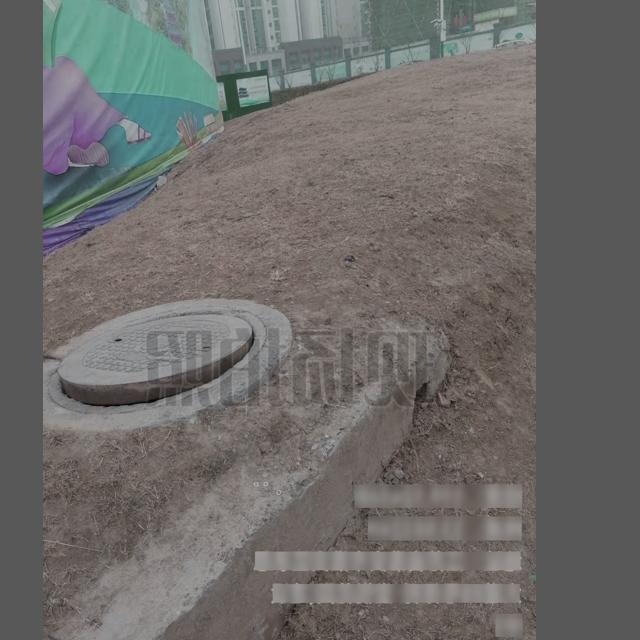uncovered: (48, 309, 271, 415)
